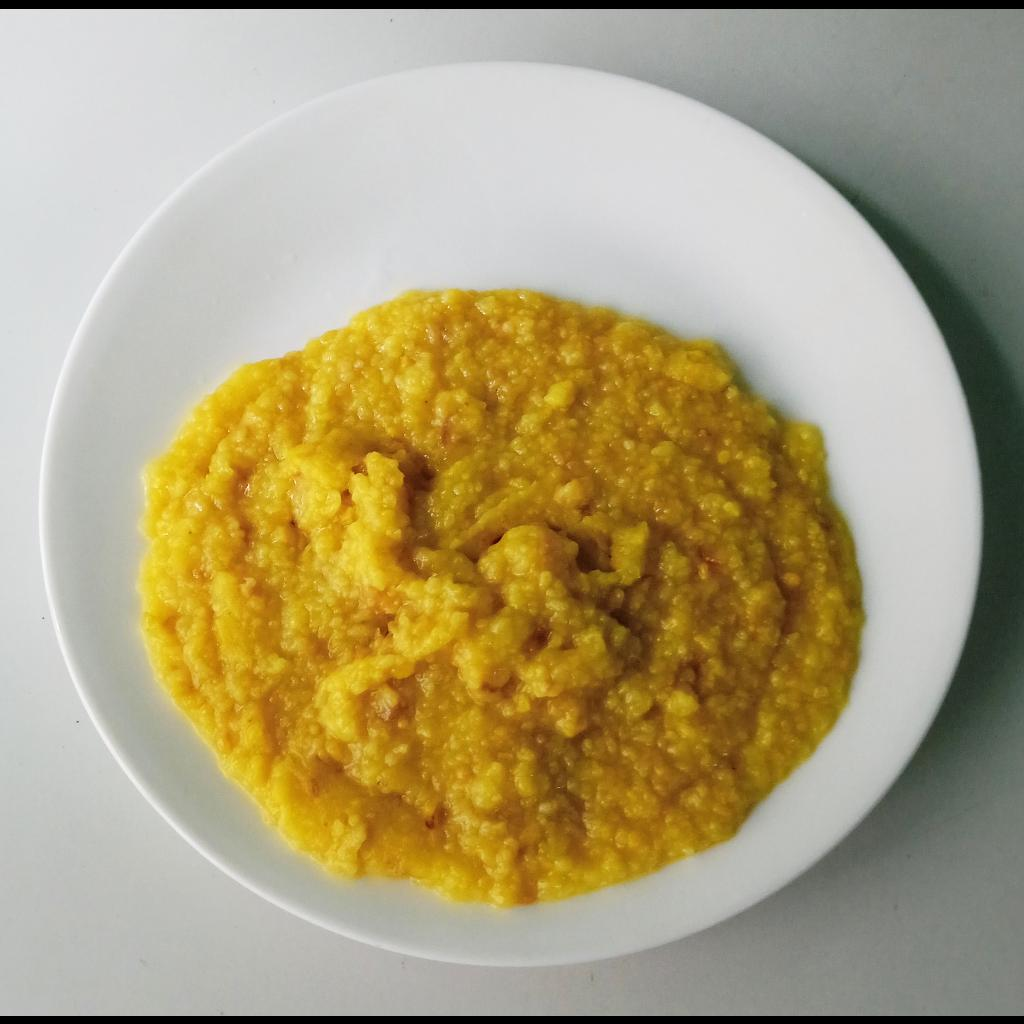khichuri: (131, 289, 869, 911)
